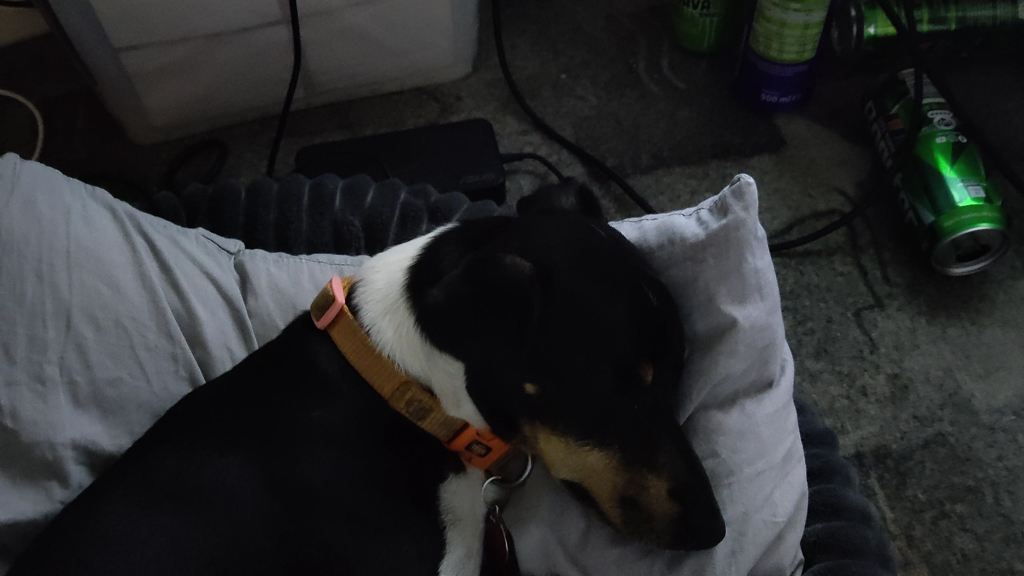Dog: (0, 160, 743, 576)
